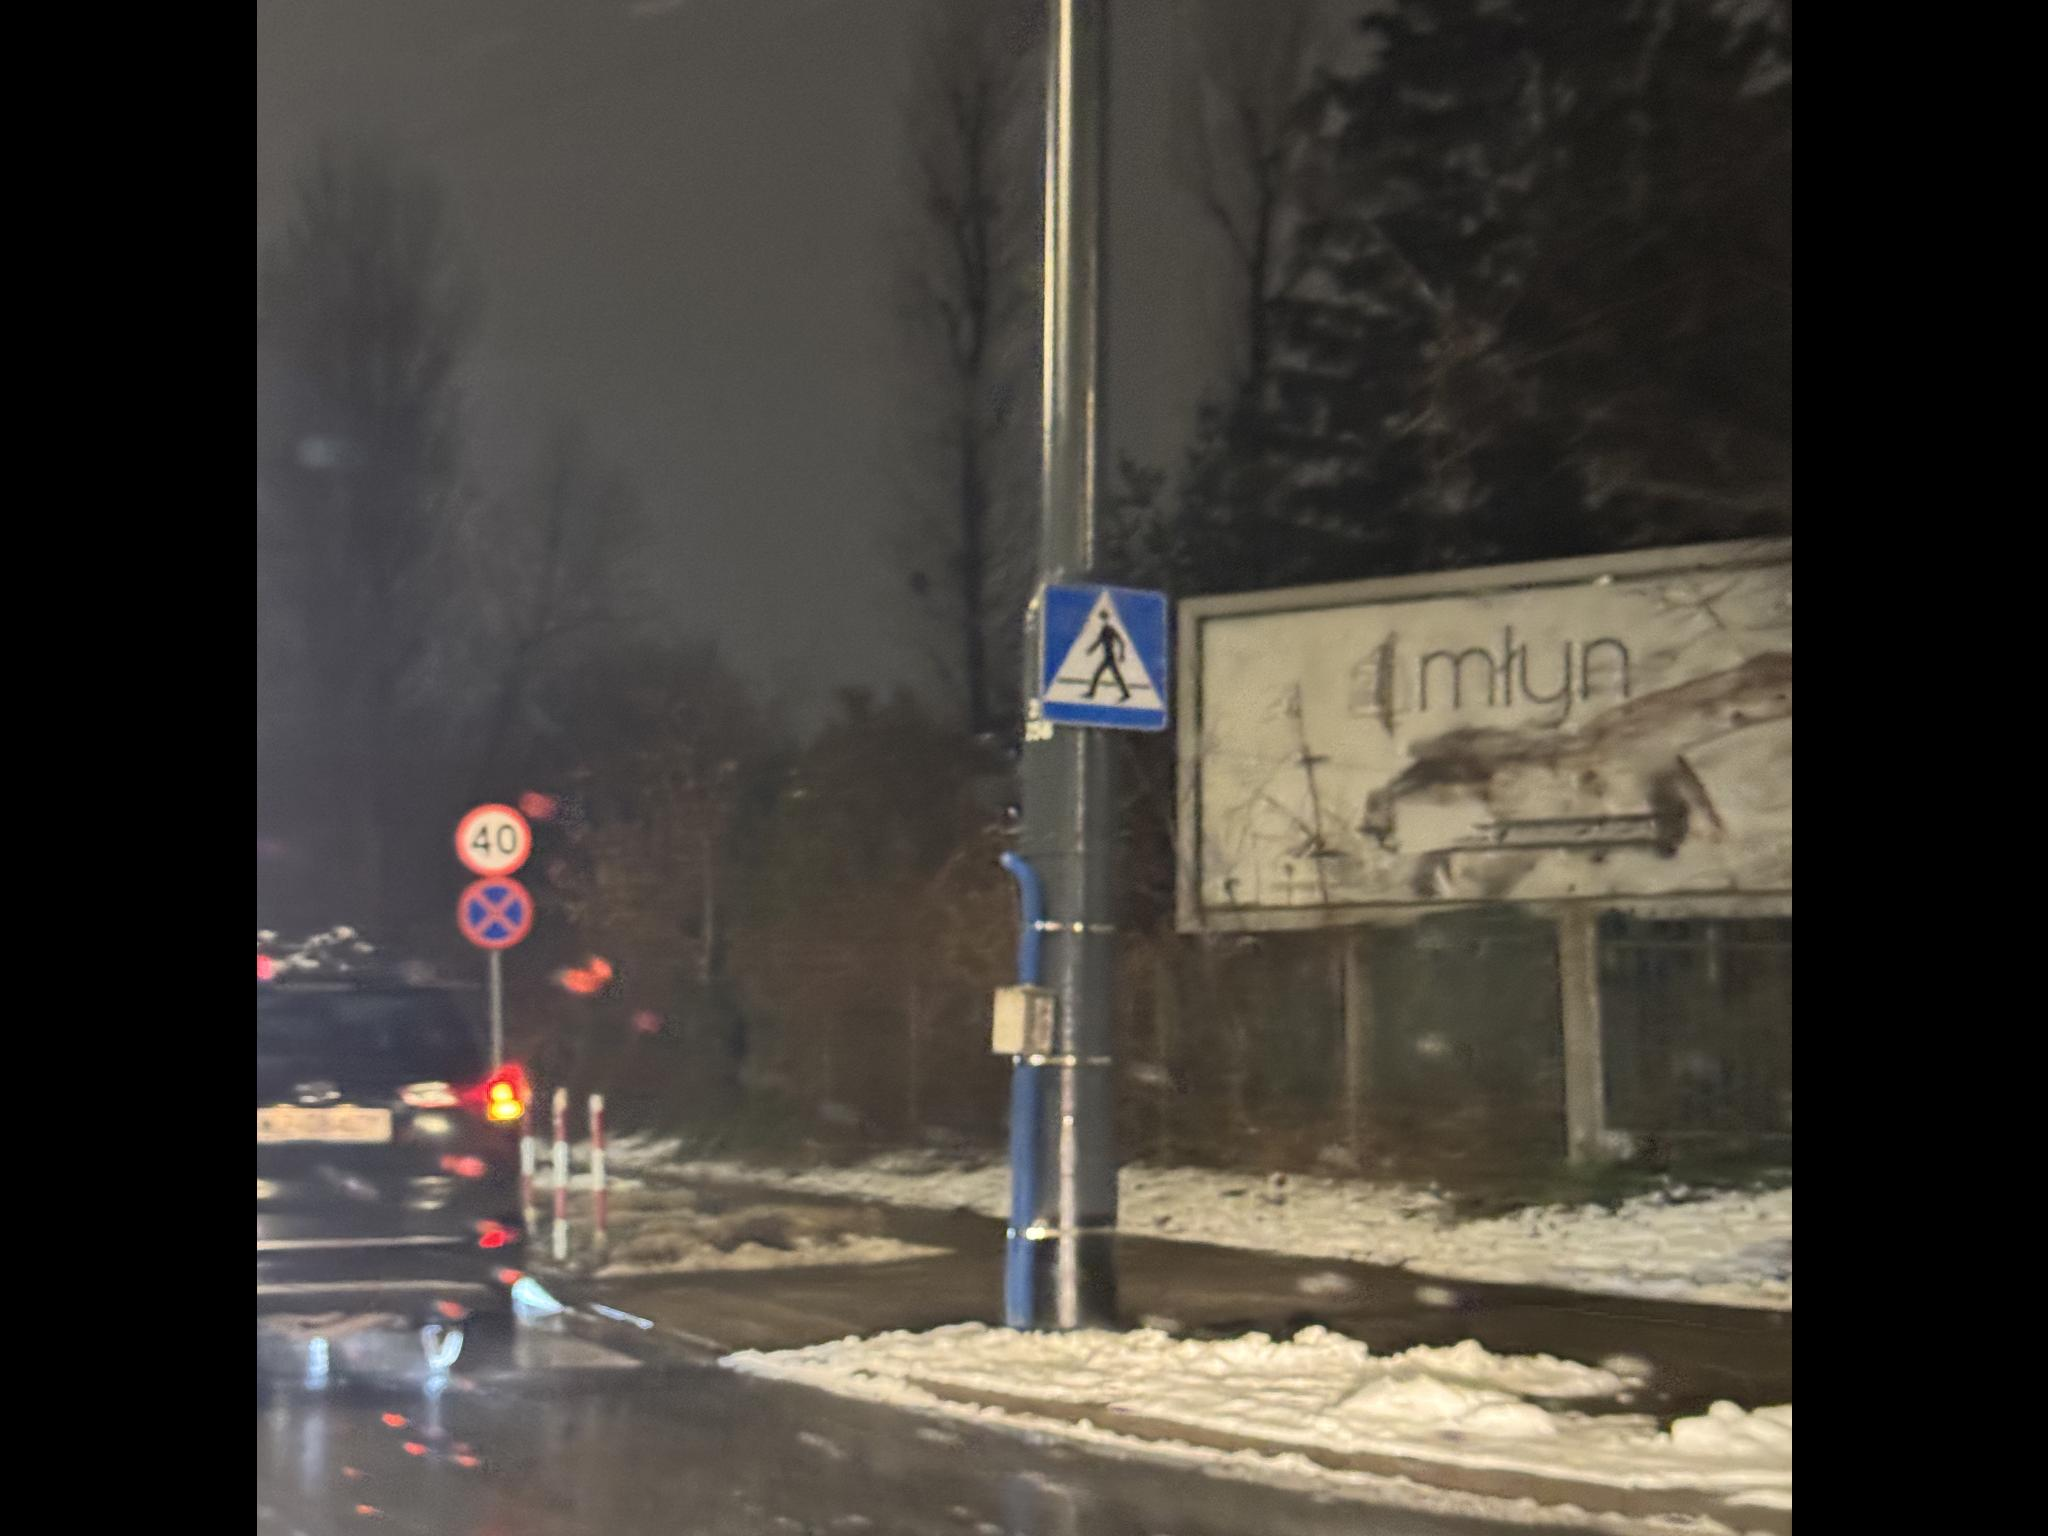information: (804, 527, 954, 657)
prohibitory: (585, 0, 659, 22), (658, 0, 733, 19)
